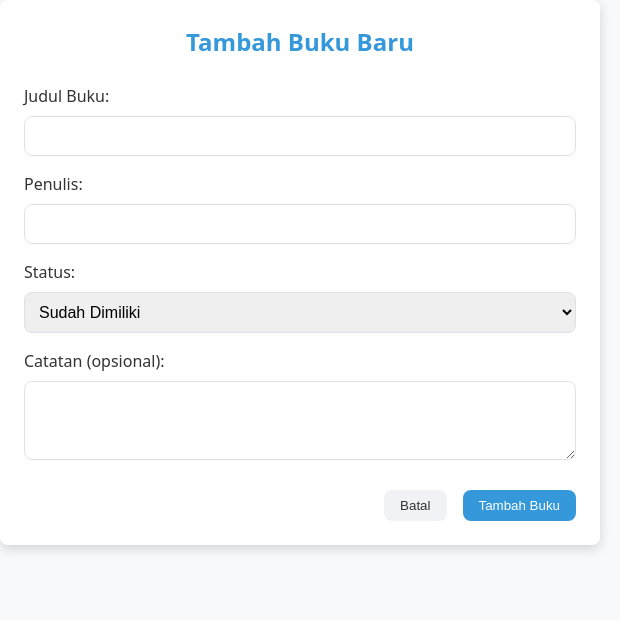
Test: BookForm Component › removes validation errors when fields are filled
# Submit form kosong untuk memunculkan error
Click the button "Tambah Buku". click: (519, 506)
box: [462,490,576,521]
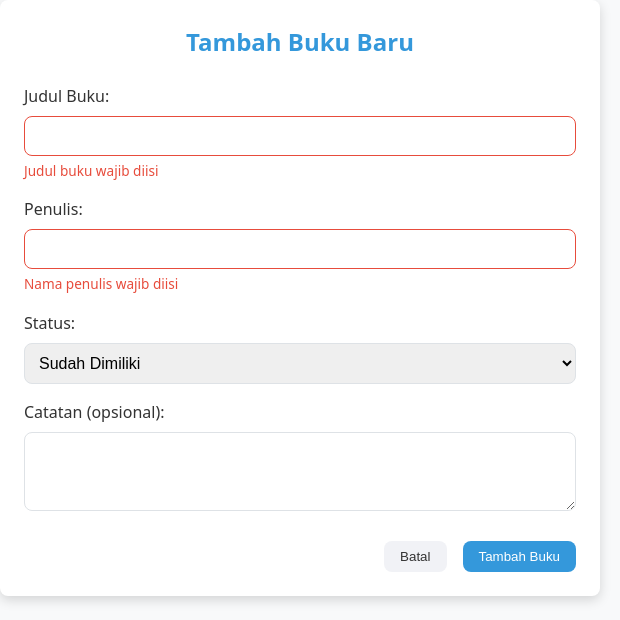
Expected: the text "Judul buku wajib diisi" is shown, [24,161,158,180]
# Isi field judul
Type "Buku Baru" into the field labelled "Judul Buku:". click: (300, 136)
box: [24,116,576,156]
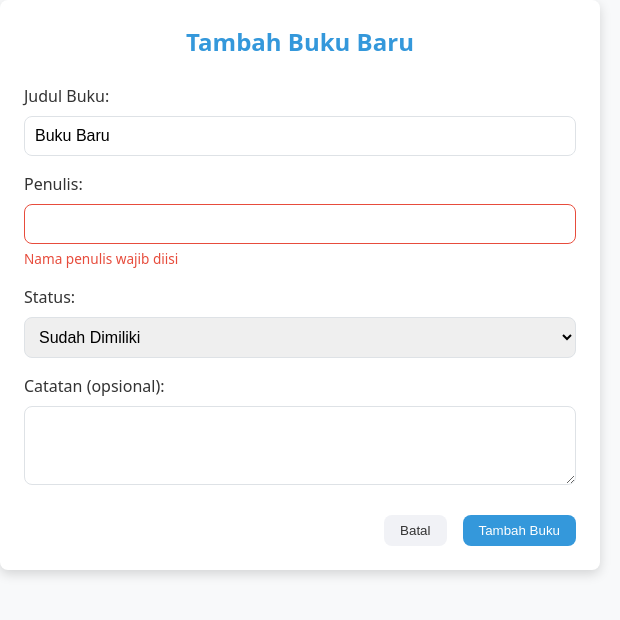
Expected: the text "Judul buku wajib diisi" is gone
